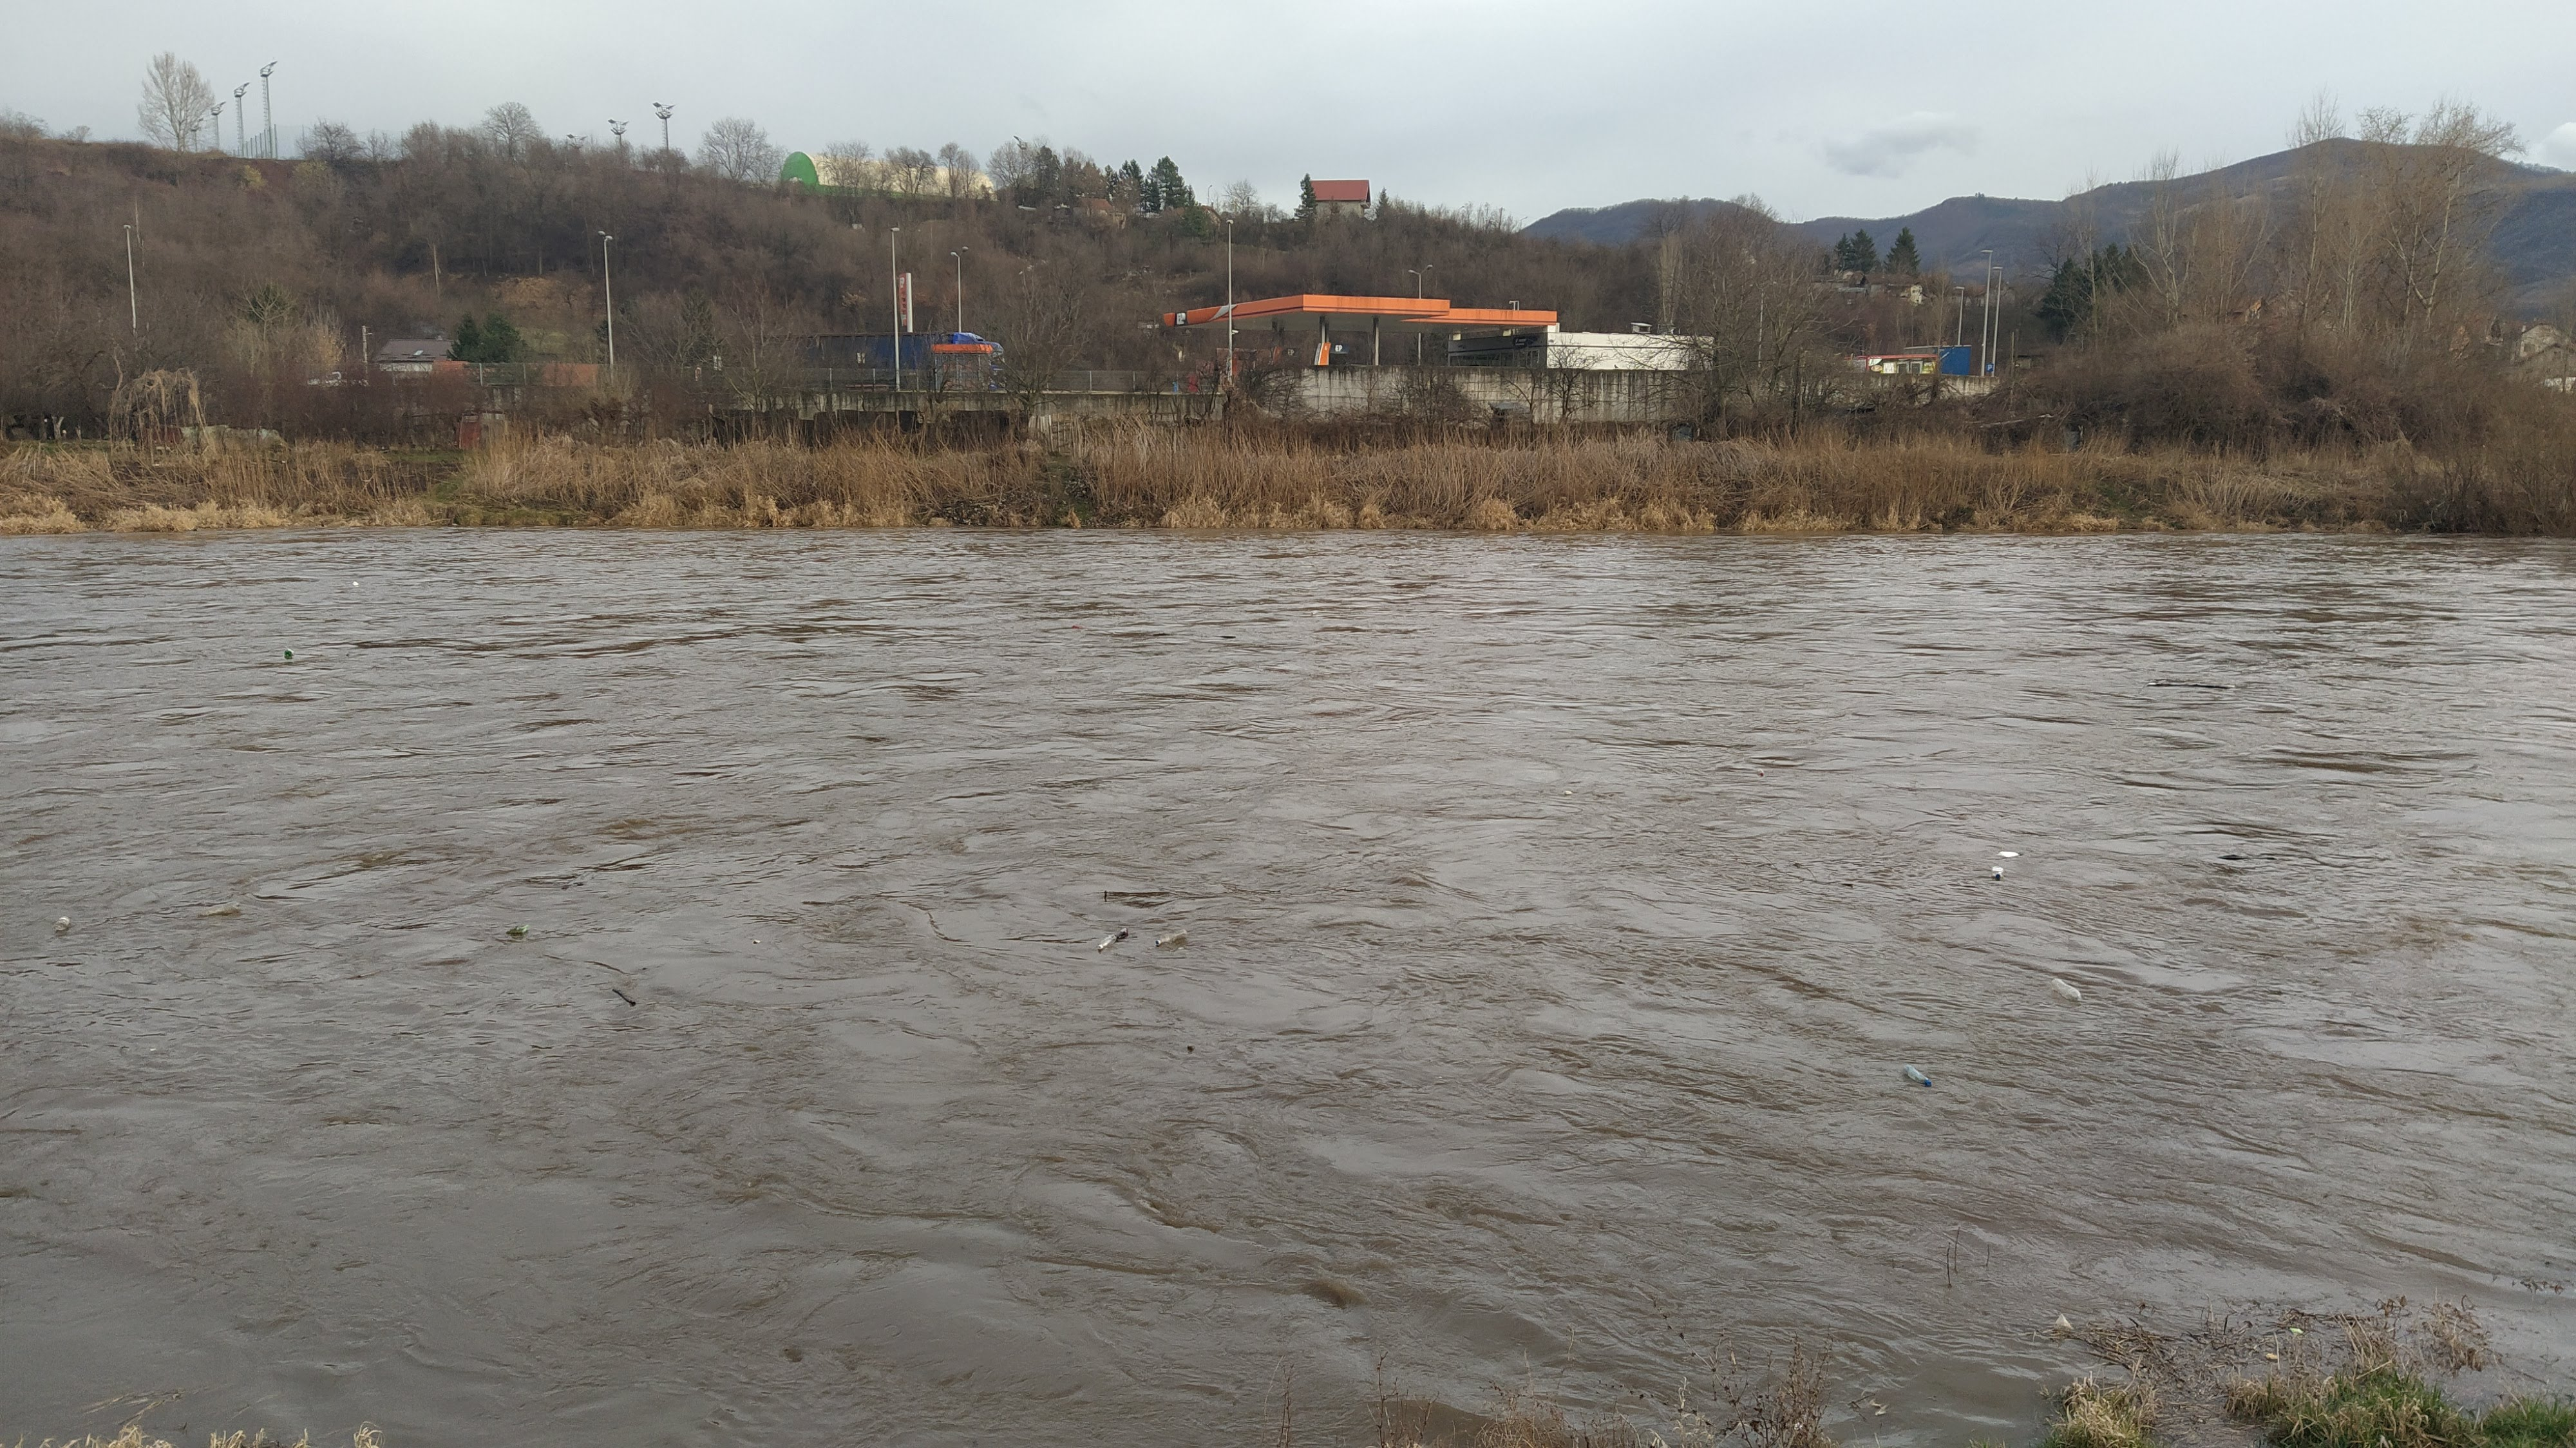Plastic Bottle: (198, 901, 241, 917), (2051, 979, 2081, 1000), (1902, 1064, 1930, 1085), (1155, 929, 1187, 947), (2052, 1313, 2072, 1329), (1097, 935, 1115, 951), (55, 915, 69, 931), (508, 924, 527, 935), (1990, 866, 2003, 880), (283, 648, 294, 659), (1115, 928, 1127, 936), (1755, 768, 1762, 775)
